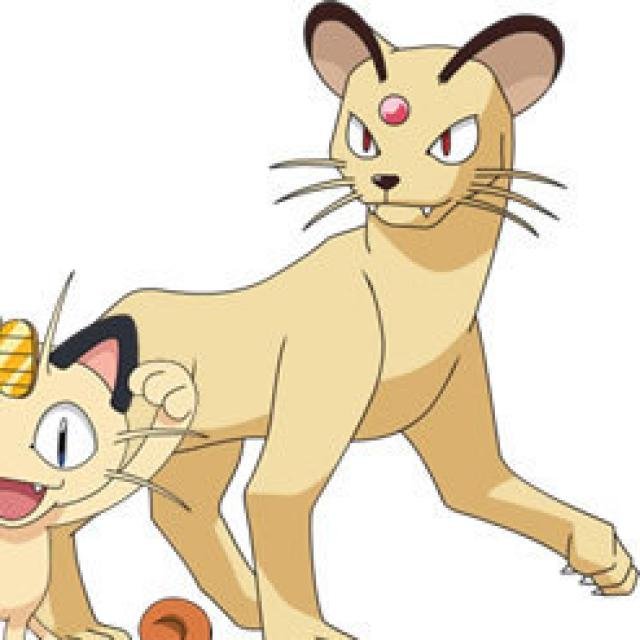Persian: (124, 12, 564, 610)
